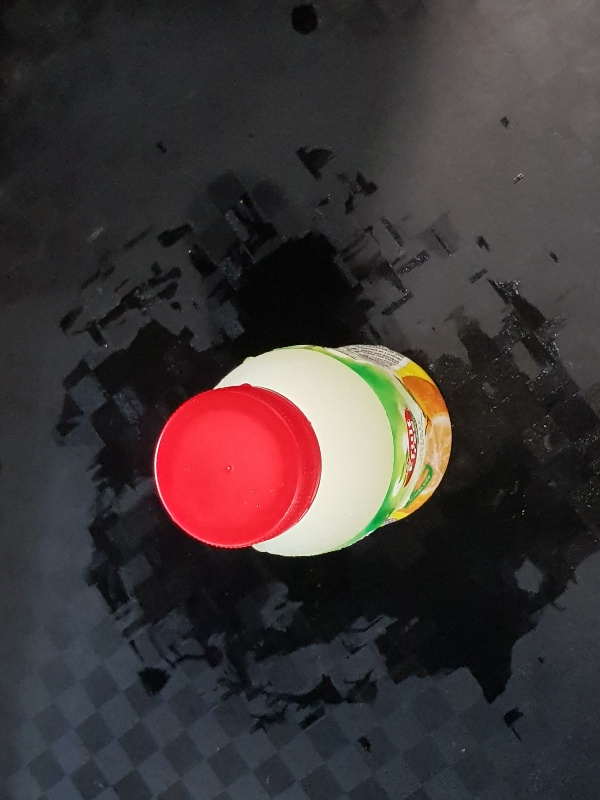Fruit Tree Yuzu Mixed Juice Drink: (151, 334, 452, 559)
